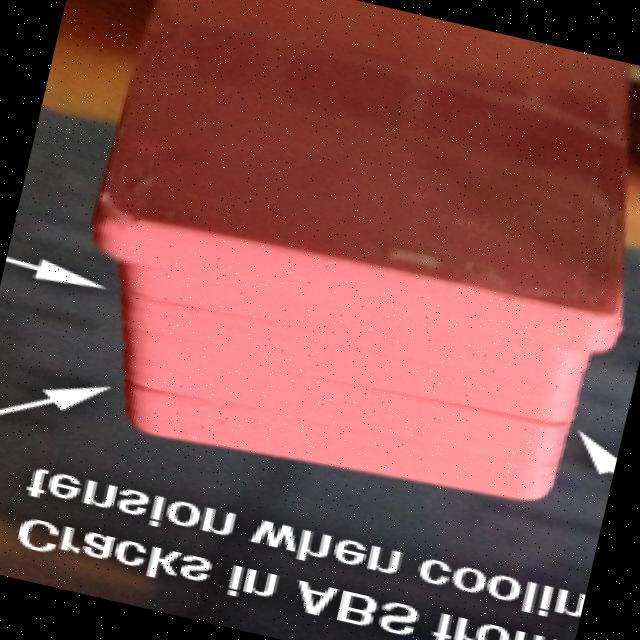cracks: (86, 350, 308, 440), (382, 354, 582, 440), (98, 262, 255, 331)
